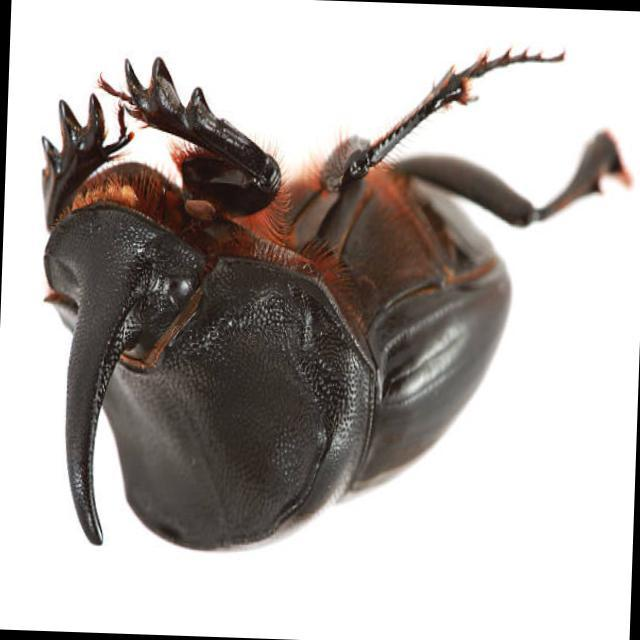Rhino-beetle: (36, 56, 612, 570)
